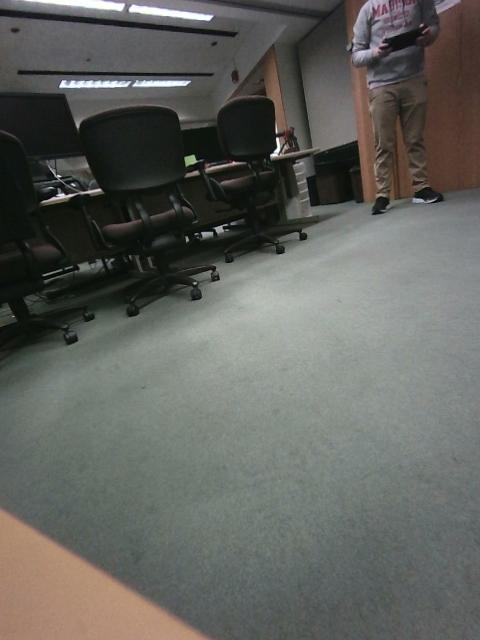block: (426, 240, 463, 266)
